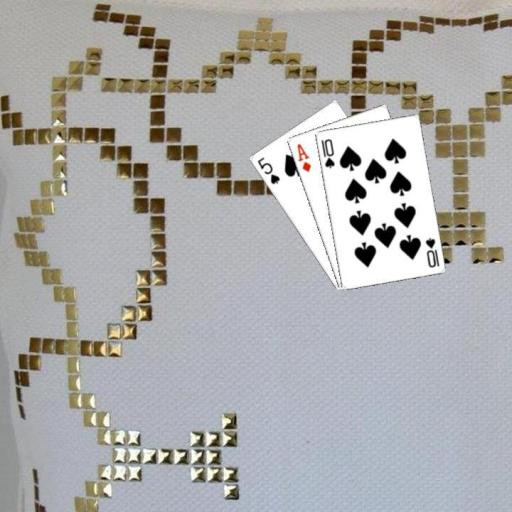10S: (423, 234, 441, 269), (318, 135, 336, 169)
5S: (254, 154, 281, 186)
AD: (294, 140, 312, 174)
